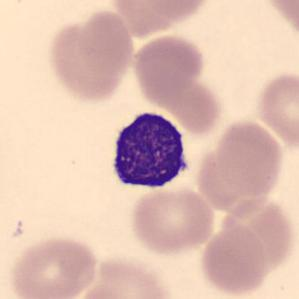Lymphocyte: (104, 104, 196, 197)
RBC: (44, 6, 136, 104), (139, 56, 228, 132), (128, 184, 218, 256), (7, 233, 99, 299), (213, 117, 285, 200), (130, 32, 207, 104), (223, 196, 290, 274), (199, 223, 269, 297), (72, 255, 175, 299), (254, 68, 298, 152), (108, 0, 214, 34), (258, 0, 299, 40), (137, 0, 214, 21)
